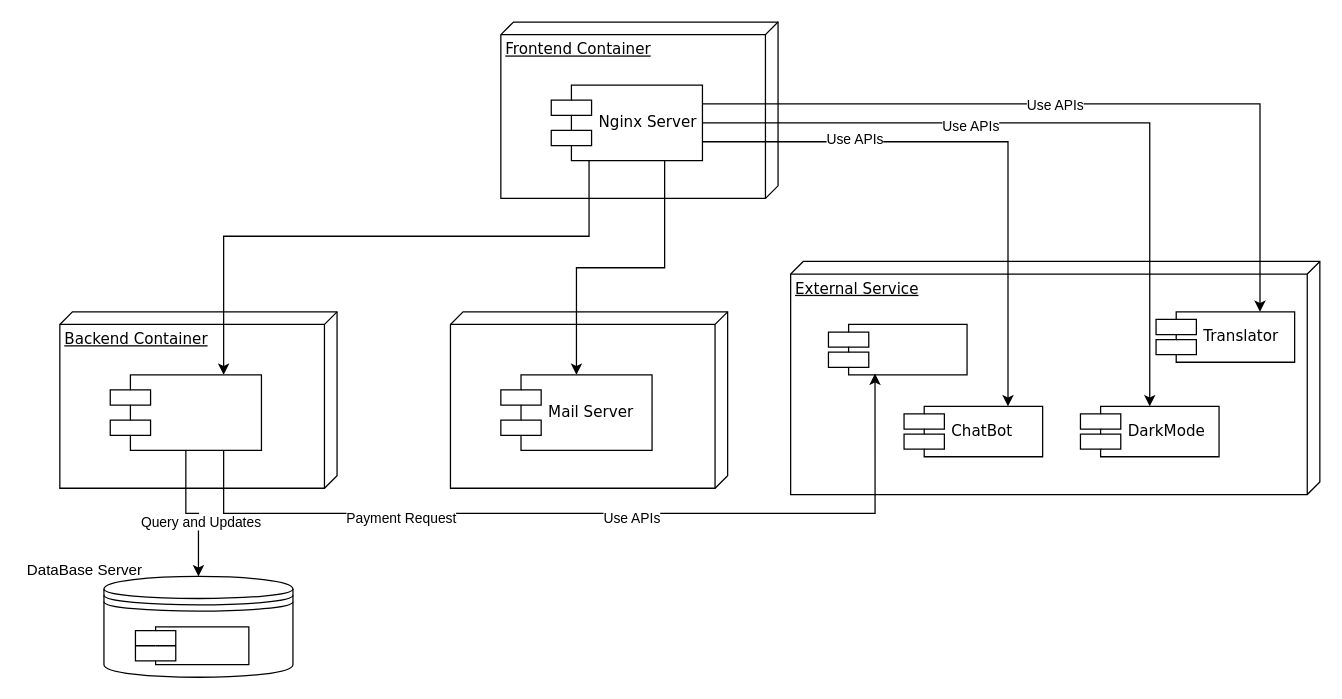
The diagram is 1342 pixels wide and 699 high, and some of its shapes have lost their labels. Each missing label, with the box of its shape:
Flask Server: (109, 374, 261, 450)
MySQL: (134, 626, 249, 665)
Payment: (827, 323, 967, 375)
SMTP: (449, 311, 728, 488)
